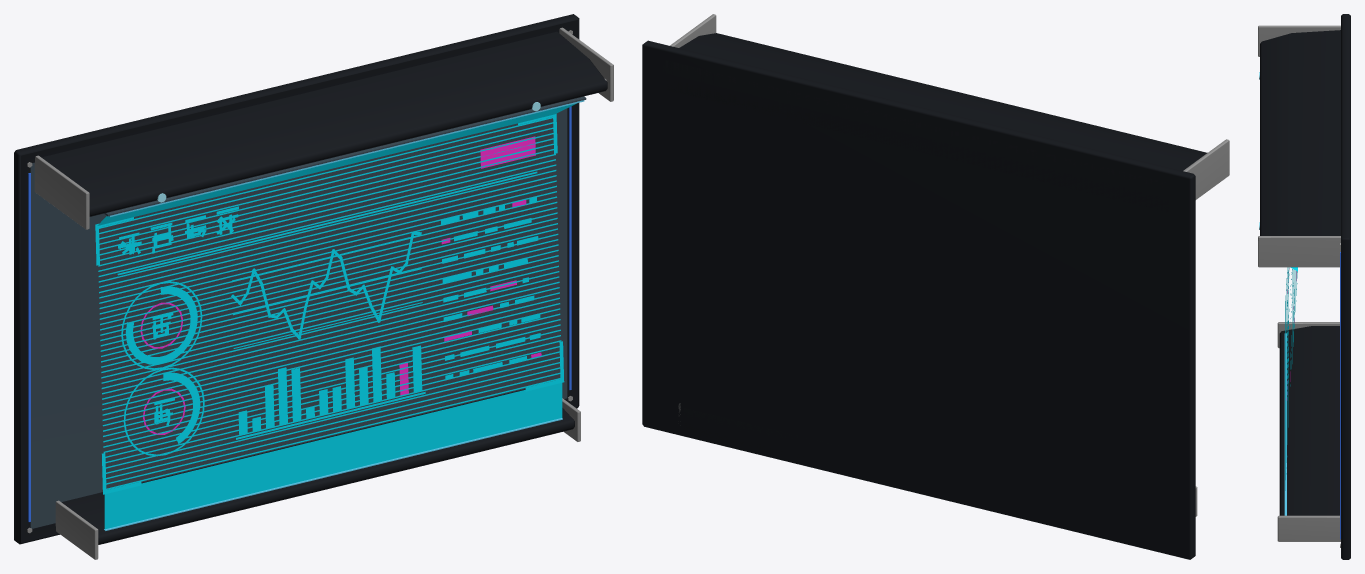
File: Holo_Display_Wall.fbx
3 renders of one model, left to right at view 1: azimuth 30°, elevation 25°; view 2: azimuth 150°, elevation 25°; view 3: azimuth 270°, elevation 25°, orthographic. The views are drawn at different scales.
Parts seen in each view (by area): view 1: Holo_Display_Wall_LOD0; view 2: Holo_Display_Wall_LOD0; view 3: Holo_Display_Wall_LOD0.
Boxes of the visible parts, bbox=[...] form: Holo_Display_Wall_LOD0: bbox=[14, 14, 613, 559]; Holo_Display_Wall_LOD0: bbox=[642, 14, 1229, 559]; Holo_Display_Wall_LOD0: bbox=[1258, 14, 1350, 559].
Size of what is drawn, in the model's own units: 2.7 by 1.8 by 0.47.
